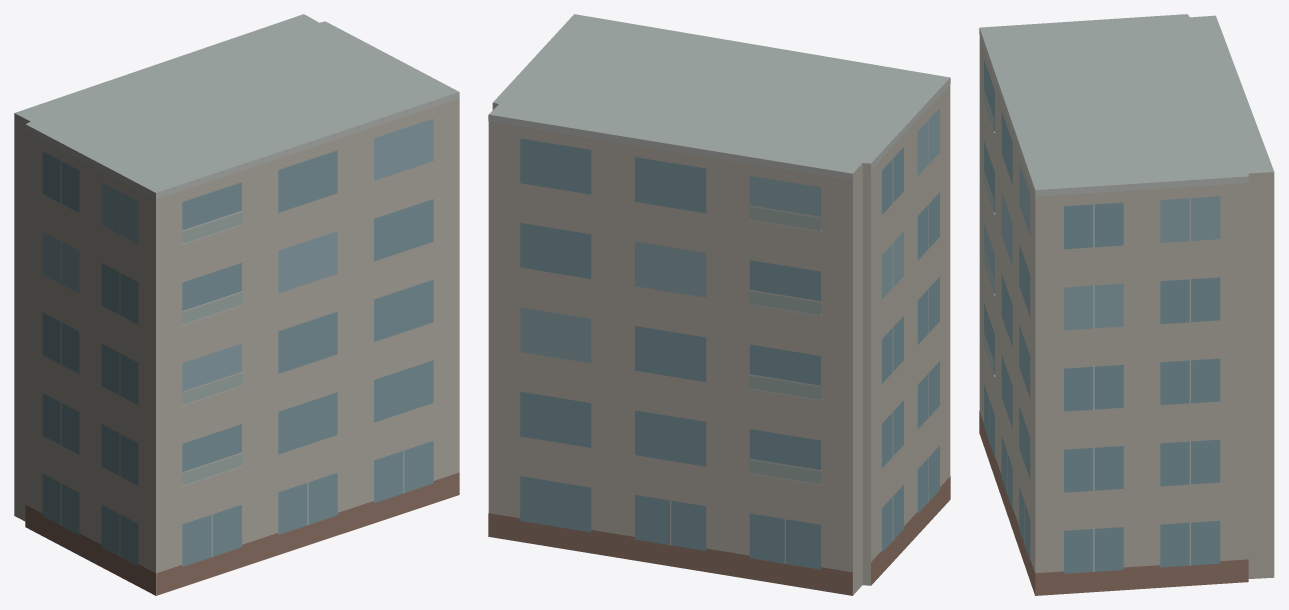
File: survey-upis-32730911.glb
3 views of the same model, side by side, from view 1: azimuth 30°, elevation 25°; view 2: azimuth 150°, elevation 25°; view 3: azimuth 270°, elevation 25° (orthographic). The views are drawn at different scales.
Visible parts, largest first — view 1: survey-upis-32730911.tmp; view 2: survey-upis-32730911.tmp; view 3: survey-upis-32730911.tmp.
Part boxes in pixels (x1,y1,x2,y2): survey-upis-32730911.tmp: (14,14,459,595); survey-upis-32730911.tmp: (488,14,950,595); survey-upis-32730911.tmp: (979,14,1274,595).
Bounding box in the file's own units: 14.22 × 15.25 × 10.06.
